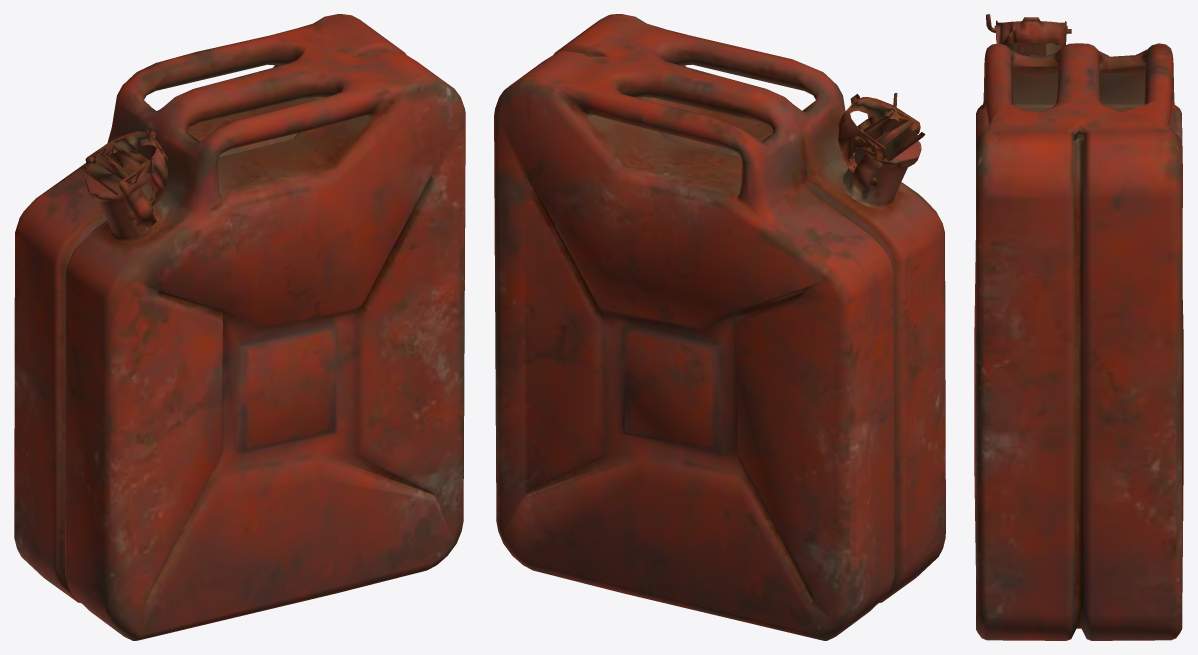
File: metal_jerrycan.glb
3 renders of one model, left to right at view 1: azimuth 30°, elevation 25°; view 2: azimuth 150°, elevation 25°; view 3: azimuth 270°, elevation 25°, orthographic. The views are drawn at different scales.
Visible parts, largest first — view 1: metal_jerrycan; view 2: metal_jerrycan; view 3: metal_jerrycan.
Boxes of the visible parts, x1,y1,x2,y2 form: metal_jerrycan: (14,14,465,640); metal_jerrycan: (494,14,945,640); metal_jerrycan: (974,14,1183,640).
Bounding box in the file's own units: 0.35 × 0.4547 × 0.1718.
Materials: 1 (1 with a texture image).
